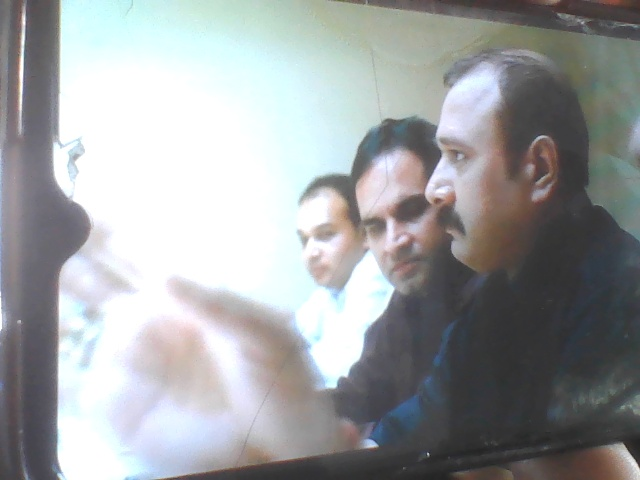fake: (403, 61, 555, 276)
